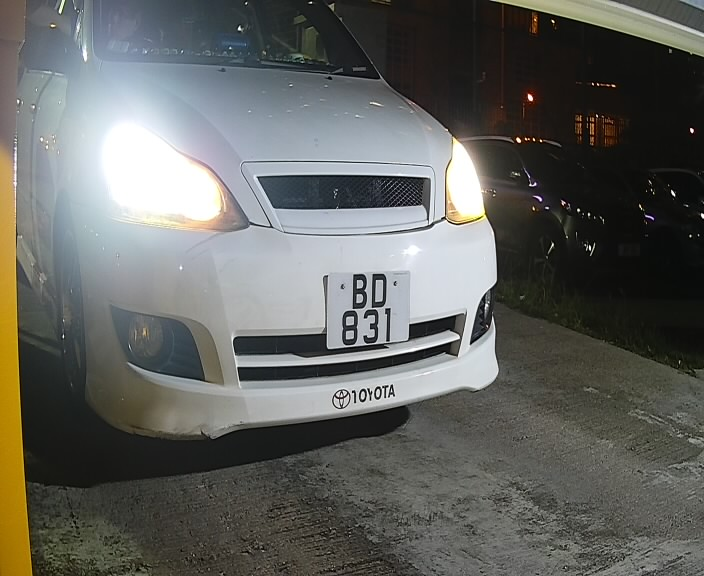Car: (17, 2, 513, 456)
License Plate: (318, 255, 428, 361)
